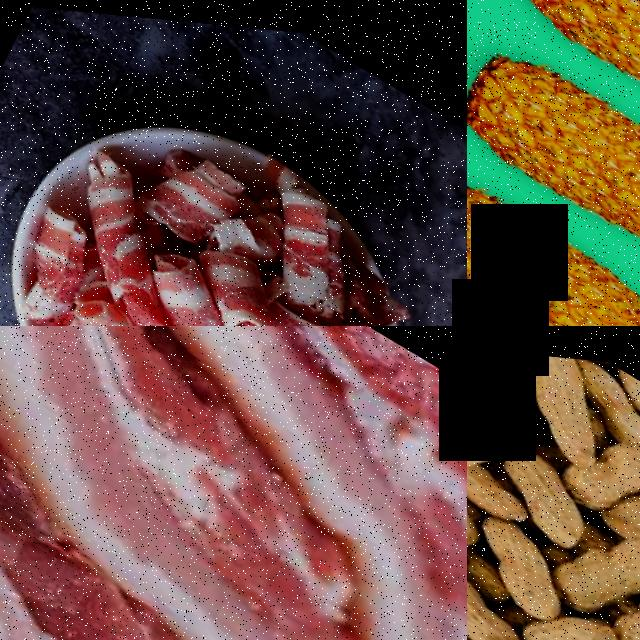peanuts: (480, 535, 569, 618), (575, 504, 640, 612), (467, 554, 532, 640), (521, 472, 596, 546), (467, 456, 534, 527), (467, 339, 526, 418), (533, 590, 625, 640), (584, 416, 640, 498)
pineapple: (467, 29, 640, 298), (467, 151, 640, 326), (502, 0, 640, 179)
pork belly: (0, 326, 421, 640), (59, 326, 467, 620), (29, 141, 231, 326), (233, 166, 379, 326), (15, 270, 239, 326)
